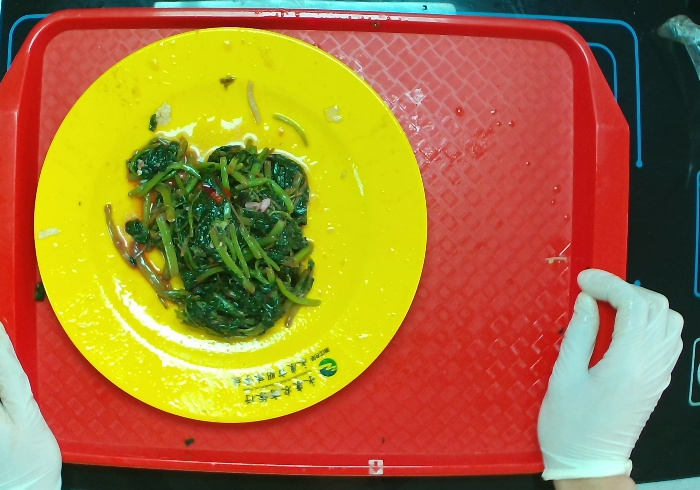YKMZ-Huang_Se_Mian_Pan: (28, 24, 443, 430)
